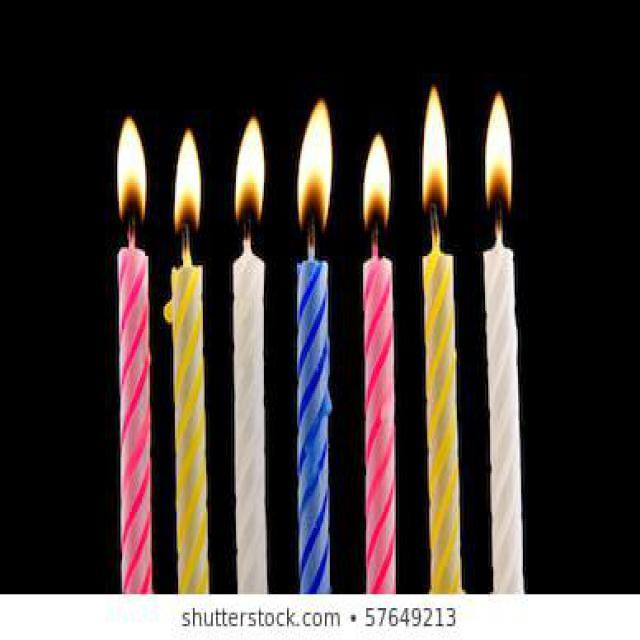Fire: (298, 100, 332, 236), (235, 118, 265, 232), (484, 92, 512, 214), (423, 87, 448, 222), (118, 116, 146, 226), (174, 131, 202, 239), (364, 134, 391, 236)
